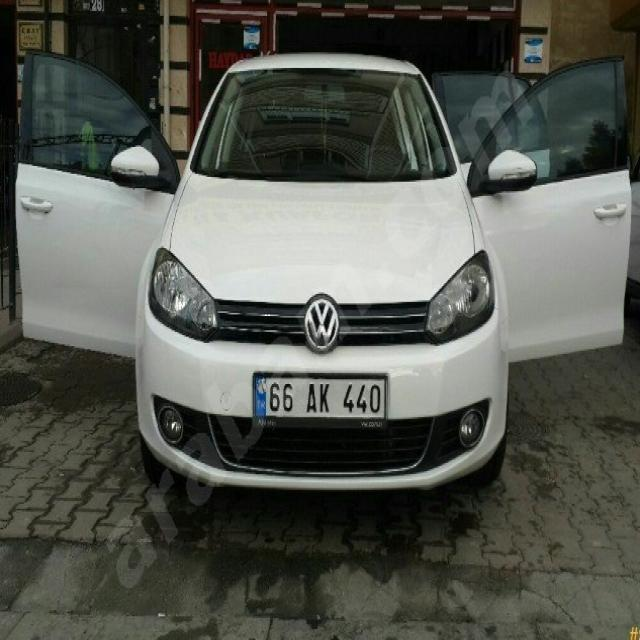license_plate: (254, 373, 386, 420)
